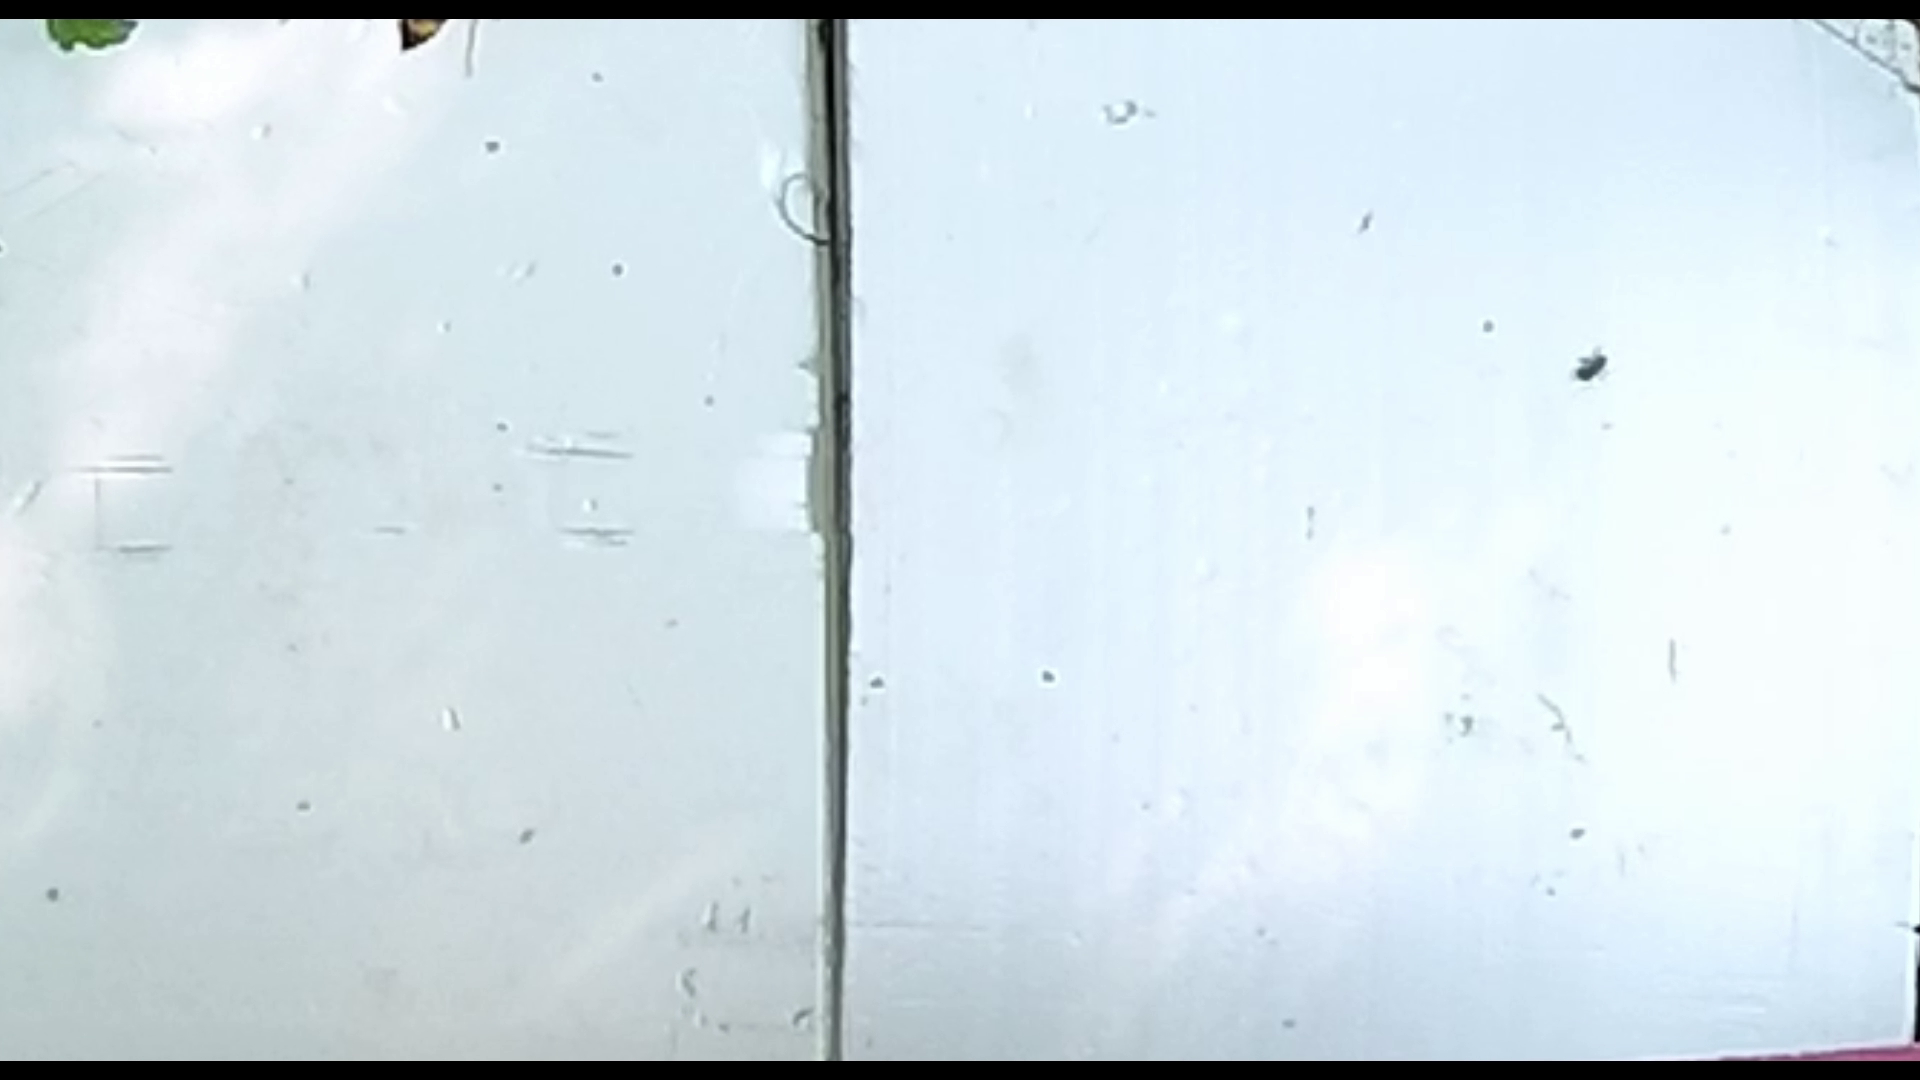Asian_hornets: (371, 21, 488, 83)
